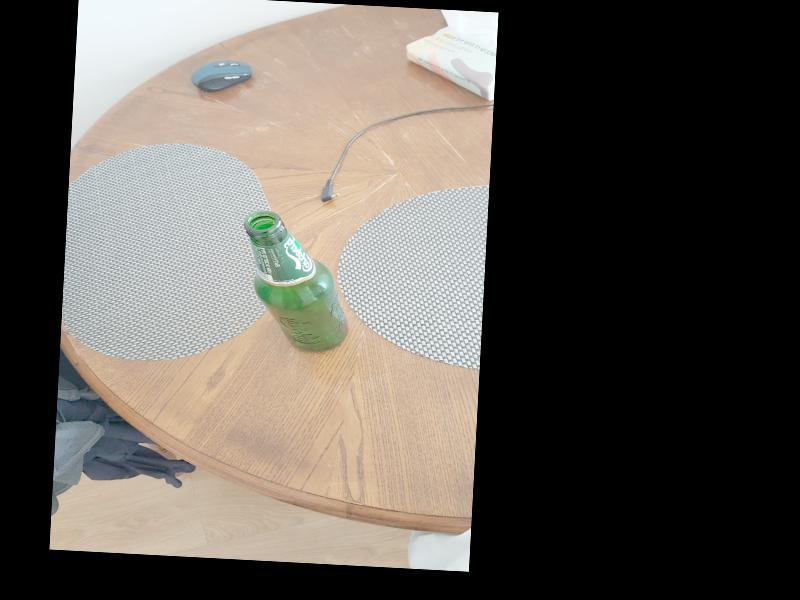Beer: (236, 210, 359, 356)
